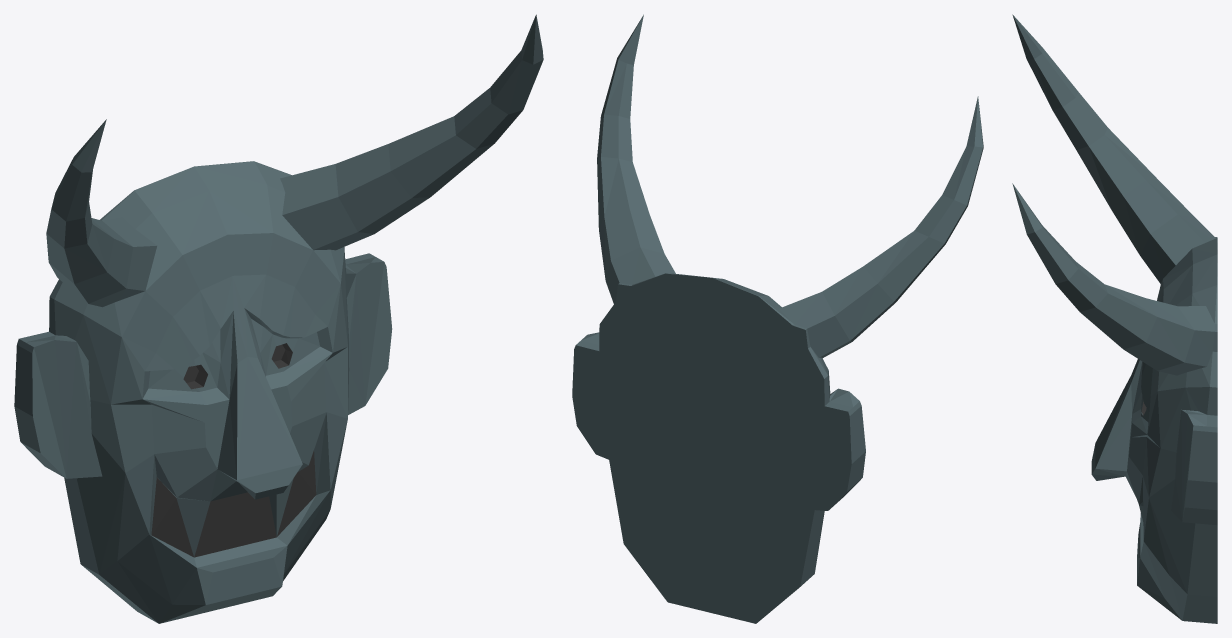
Rendered from Asian_Prop_Noh_Mask_01.FBX.
3 views of the same model, side by side, from view 1: azimuth 30°, elevation 25°; view 2: azimuth 150°, elevation 25°; view 3: azimuth 270°, elevation 25° (orthographic). The views are drawn at different scales.
Parts seen in each view (by area): view 1: Asian_Prop_Noh_Mask_01; view 2: Asian_Prop_Noh_Mask_01; view 3: Asian_Prop_Noh_Mask_01.
Boxes of the visible parts, x1=… form: Asian_Prop_Noh_Mask_01: x1=14, y1=14, x2=543, y2=623; Asian_Prop_Noh_Mask_01: x1=572, y1=14, x2=983, y2=623; Asian_Prop_Noh_Mask_01: x1=1012, y1=14, x2=1217, y2=623.
Bounding box in the file's own units: 717 × 910 × 337.
